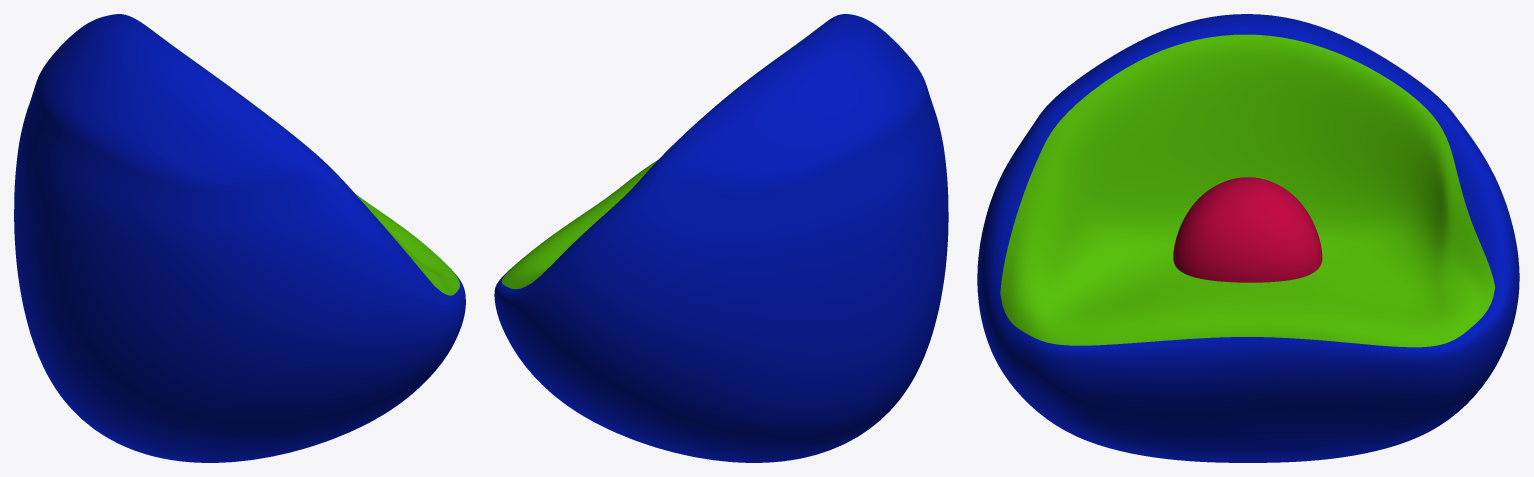
The model's file is Nucleo.5c647999.glb.
3 views of the same model, side by side, from view 1: azimuth 30°, elevation 25°; view 2: azimuth 150°, elevation 25°; view 3: azimuth 270°, elevation 25° (orthographic).
Visible parts, largest first — view 1: NÚCLEO; view 2: NÚCLEO; view 3: NÚCLEO.
Boxes of the visible parts, x1,y1,x2,y2 form: NÚCLEO: (14, 14, 465, 462); NÚCLEO: (494, 14, 948, 462); NÚCLEO: (977, 14, 1519, 462).
Size of the model in its own units: 1.75 by 2.05 by 2.48.
